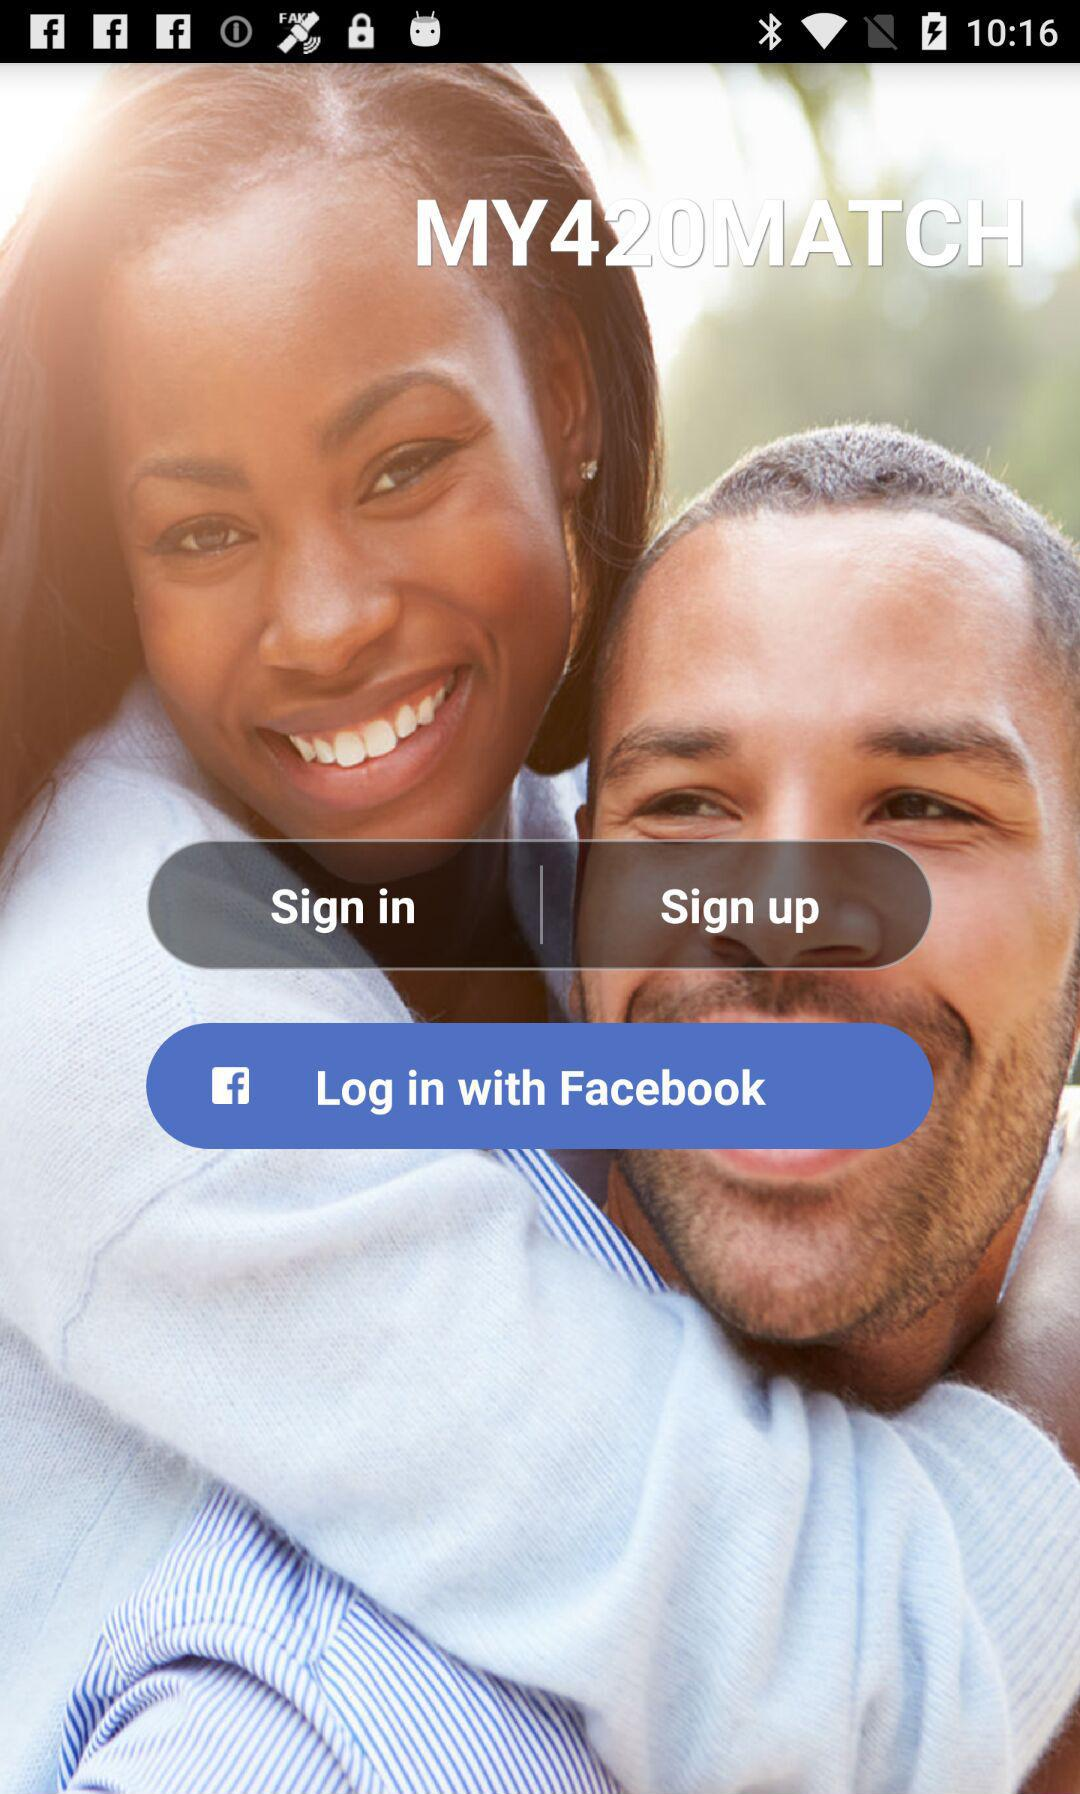BackgroundImage: (1, 64, 1080, 1794)
Text: (415, 199, 1025, 270)
TextButton: (146, 1023, 934, 1149), (542, 838, 935, 973), (147, 839, 542, 973)
UpperTaskBar: (1, 1, 1080, 64)
